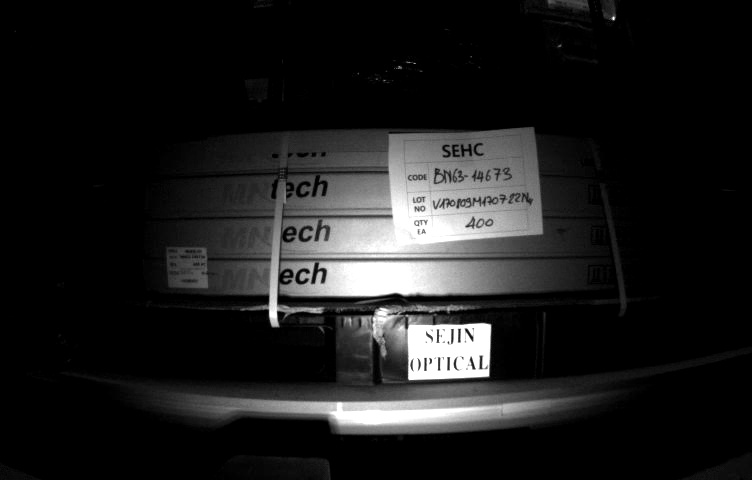True Barcode: (165, 247, 210, 291)
